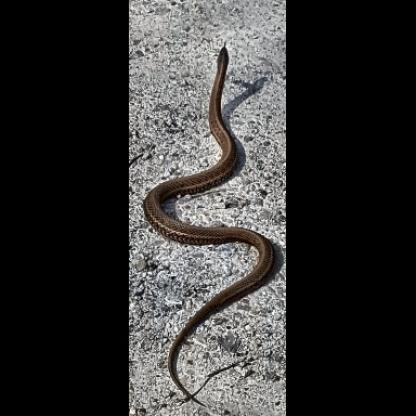Snake: (140, 38, 276, 404)
